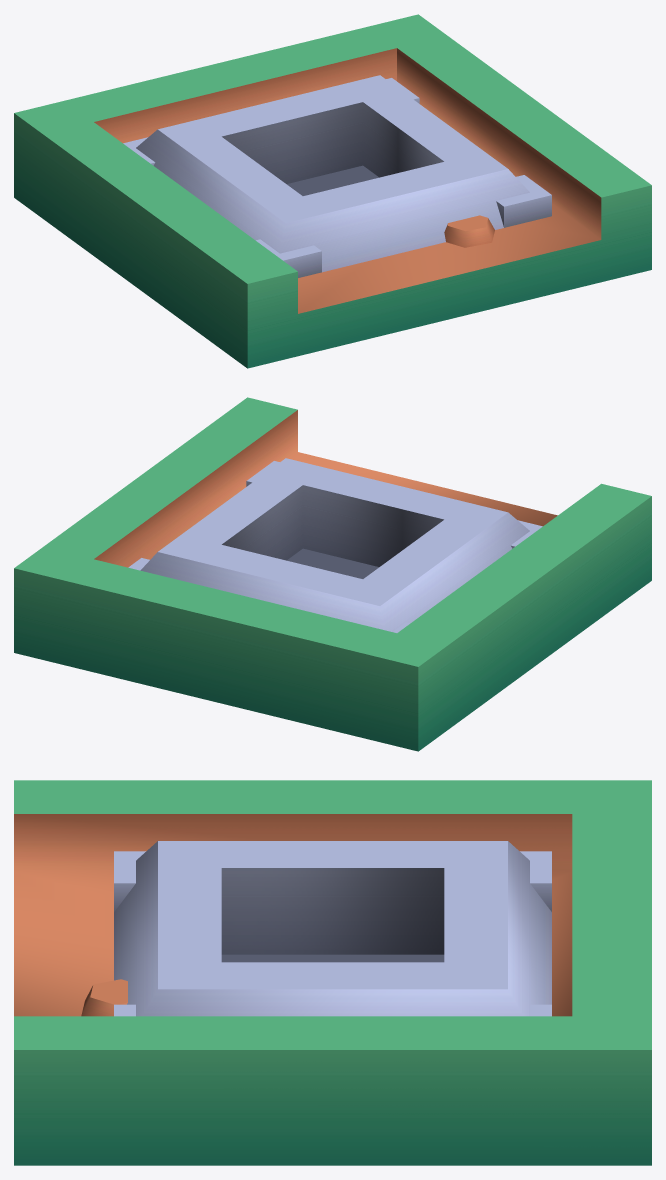
Rendered from kenney-tower-defense-tile-spawn-end.glb.
3 renders of one model, top to bottom at view 1: azimuth 30°, elevation 25°; view 2: azimuth 150°, elevation 25°; view 3: azimuth 270°, elevation 25°, orthographic. The views are drawn at different scales.
Parts seen in each view (by area): view 1: tile-spawn-end; view 2: tile-spawn-end; view 3: tile-spawn-end.
Boxes of the visible parts, <box> form: tile-spawn-end: <box>14,14,651,368</box>; tile-spawn-end: <box>14,397,651,751</box>; tile-spawn-end: <box>14,780,651,1165</box>.
Bounding box in the file's own units: 1 × 0.2 × 1.
Materials: 1 (1 with a texture image).
